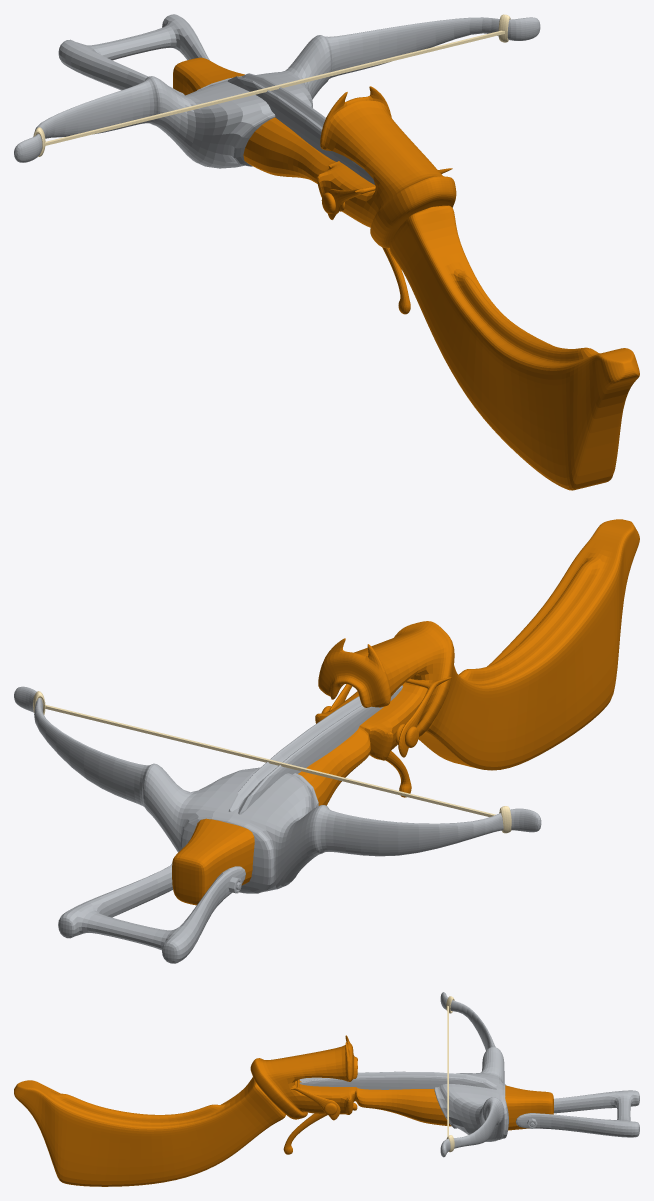
The model's file is Ballesta 1.fbx.
3 views of the same model, one above another, from view 1: azimuth 30°, elevation 25°; view 2: azimuth 150°, elevation 25°; view 3: azimuth 270°, elevation 25° (orthographic). The views are drawn at different scales.
Visible parts, largest first — view 1: Cube; view 2: Cube; view 3: Cube.
Part boxes in pixels (bbox=[...]): Cube: bbox=[14, 14, 639, 490]; Cube: bbox=[14, 519, 639, 963]; Cube: bbox=[14, 992, 639, 1186].
Bounding box in the file's own units: 4.51 × 1.93 × 7.61.
